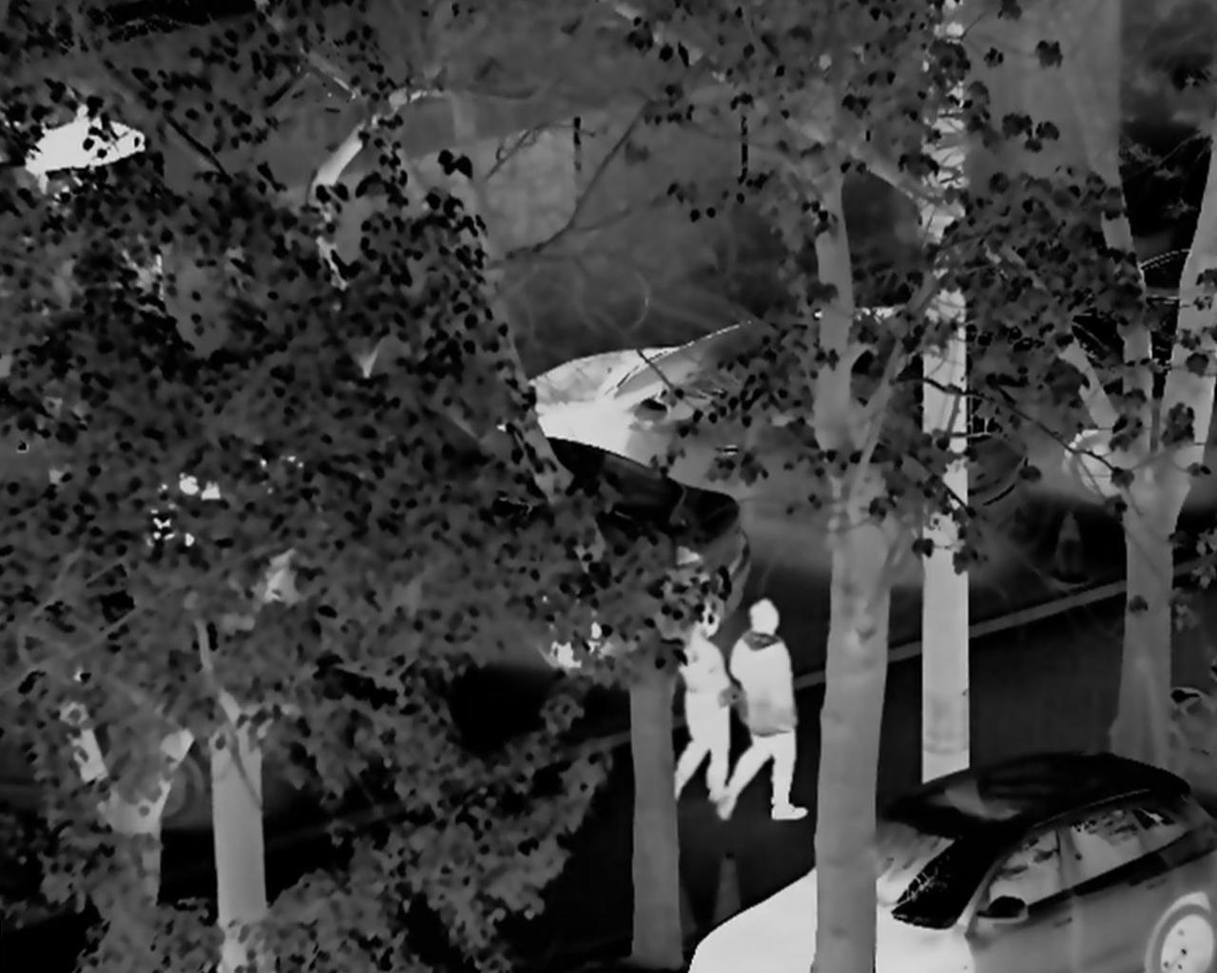person: (724, 595, 812, 826), (654, 614, 741, 824)
